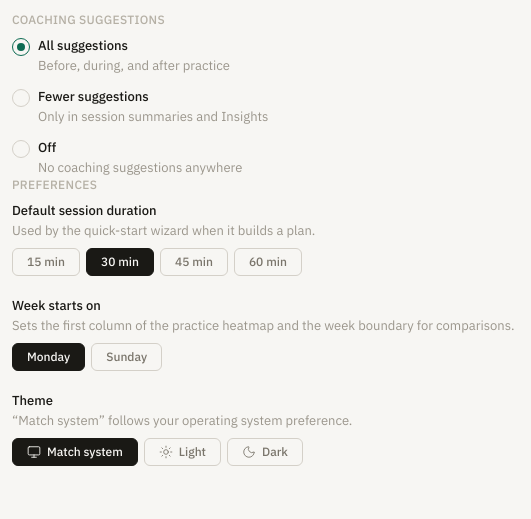
Test: ProfileSettings › resyncs from the server and explains when a save fails
Click the radio button labelled "Off No coaching suggestions anywhere" at (127,157), box [12,139,242,176]
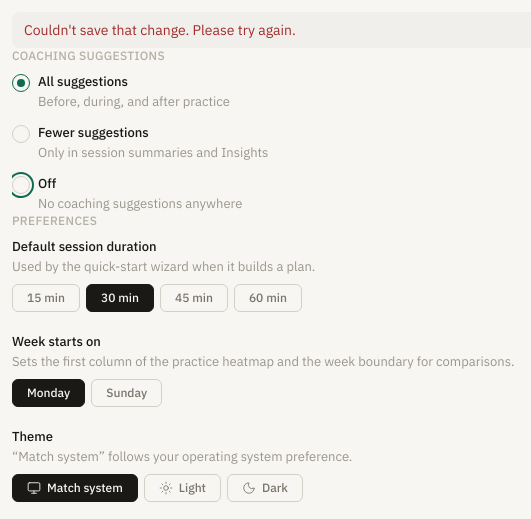
Check: the radio button labelled "All suggestions Before, during, and after practice" is checked, box [12,73,230,110]
Check: the message shows "save", box [24,21,296,39]
